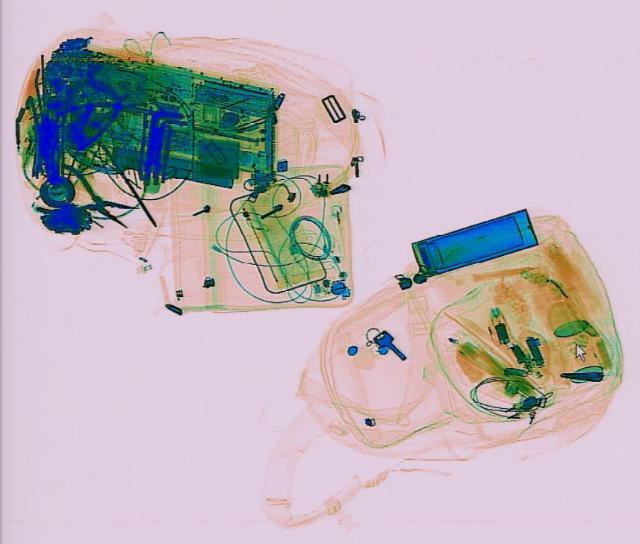Pliers: (29, 159, 150, 242)
